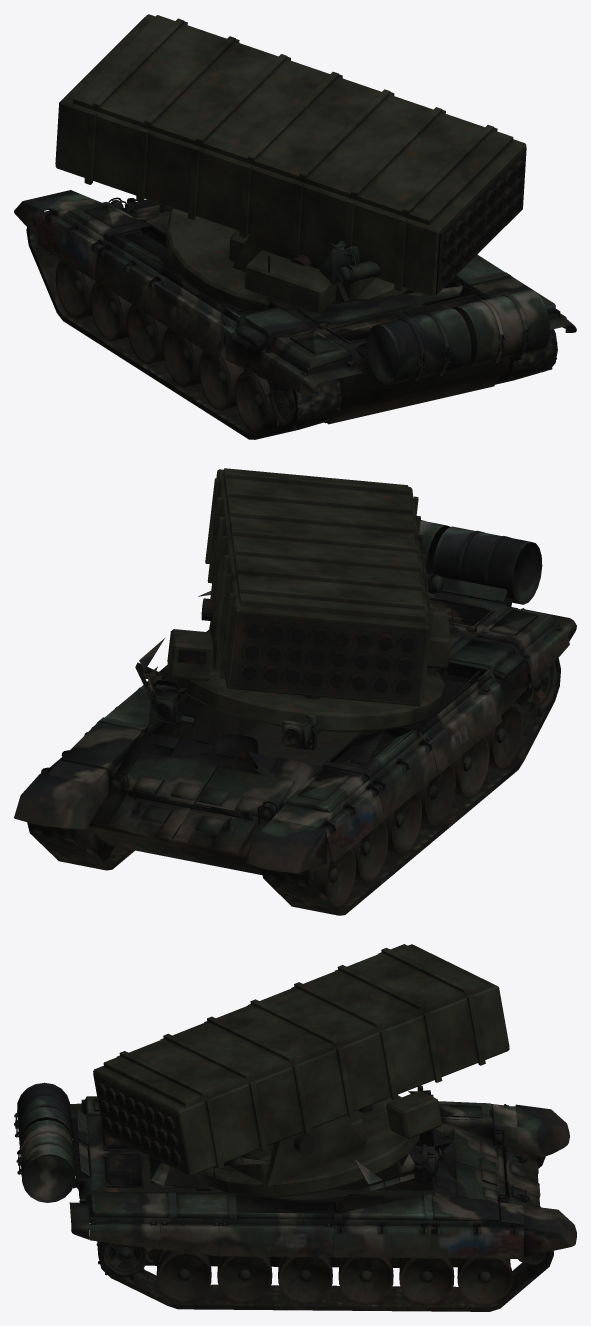
Rendered from tos-wreck.glb.
The picture shows the model from 3 angles, top to bottom: view 1: azimuth 30°, elevation 25°; view 2: azimuth 150°, elevation 25°; view 3: azimuth 270°, elevation 25°; orthographic projection. The views are drawn at different scales.
Visible parts, largest first — view 1: turret, hull; view 2: hull, turret; view 3: hull, turret.
Part boxes in pixels (<box>): turret: <box>55,14,526,312</box>; hull: <box>14,190,576,439</box>; hull: <box>14,520,576,915</box>; turret: <box>167,468,450,732</box>; hull: <box>14,1082,576,1311</box>; turret: <box>93,944,509,1197</box>.
Size of the model in its own units: 4.42 by 3.63 by 7.22.
1 material, 1 textured.
